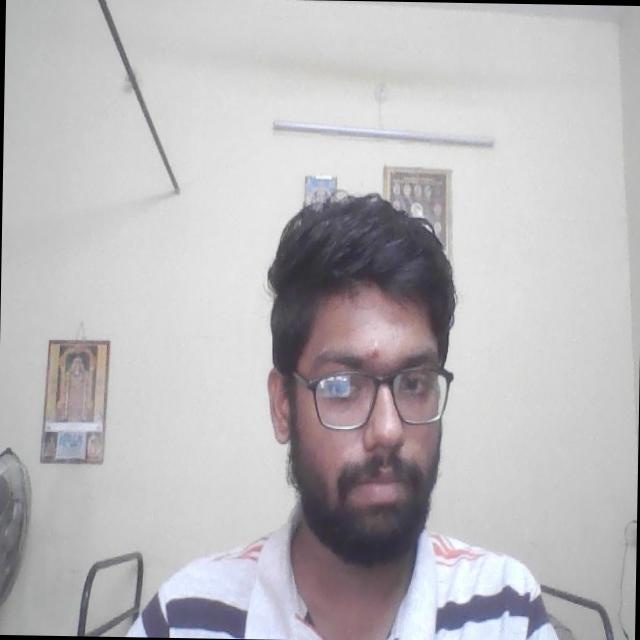Focused: (300, 304, 451, 532)
